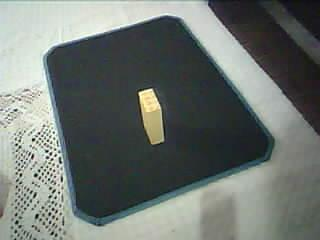lego: (136, 87, 165, 145)
